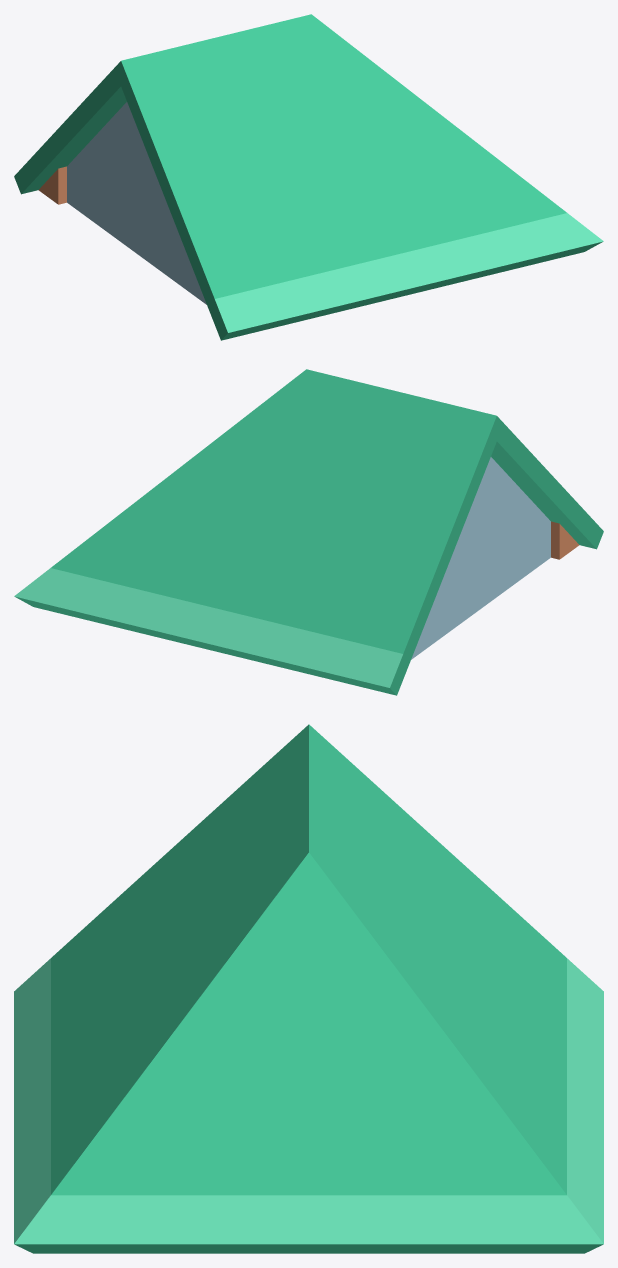
Rendered from roofGableEnd.dae.
The picture shows the model from 3 angles, top to bottom: view 1: azimuth 30°, elevation 25°; view 2: azimuth 150°, elevation 25°; view 3: azimuth 270°, elevation 25°; orthographic projection. The views are drawn at different scales.
Parts seen in each view (by area): view 1: roofGableEnd; view 2: roofGableEnd; view 3: roofGableEnd.
Boxes of the visible parts, bbox=[...] form: roofGableEnd: bbox=[14, 14, 603, 340]; roofGableEnd: bbox=[14, 369, 603, 695]; roofGableEnd: bbox=[14, 724, 603, 1253].
Bounding box in the file's own units: 1.09 × 0.5707 × 1.07.
